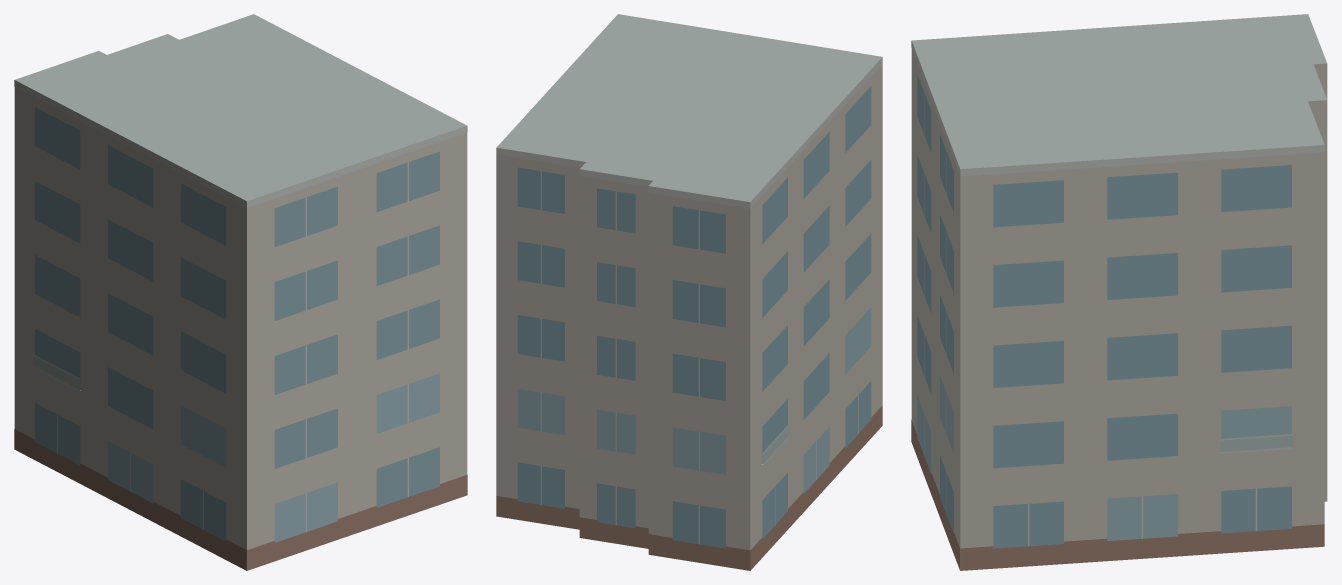
Rendered from survey-upis-32636732.glb.
3 renders of one model, left to right at view 1: azimuth 30°, elevation 25°; view 2: azimuth 150°, elevation 25°; view 3: azimuth 270°, elevation 25°, orthographic. The views are drawn at different scales.
Visible parts, largest first — view 1: survey-upis-32636732.tmp; view 2: survey-upis-32636732.tmp; view 3: survey-upis-32636732.tmp.
Part boxes in pixels (bbox=[...]): survey-upis-32636732.tmp: bbox=[14, 14, 467, 570]; survey-upis-32636732.tmp: bbox=[496, 14, 882, 570]; survey-upis-32636732.tmp: bbox=[911, 14, 1327, 570].
Bounding box in the file's own units: 11.2 × 13.5 × 12.68.
